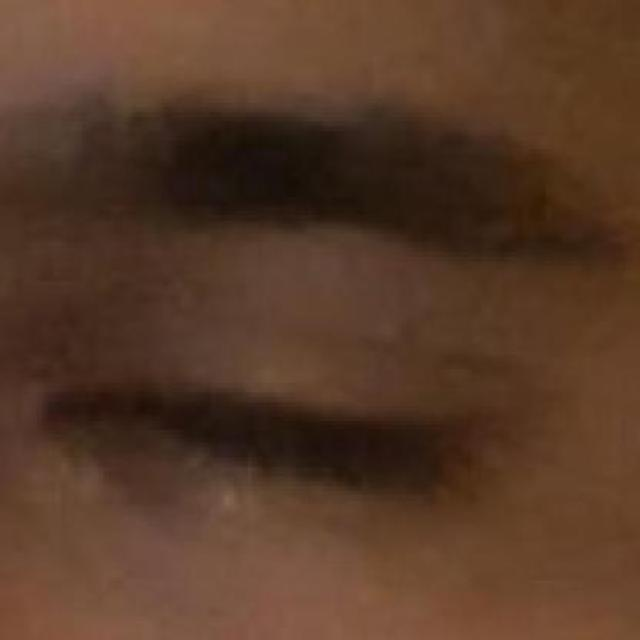drowsy: (56, 312, 470, 580)
